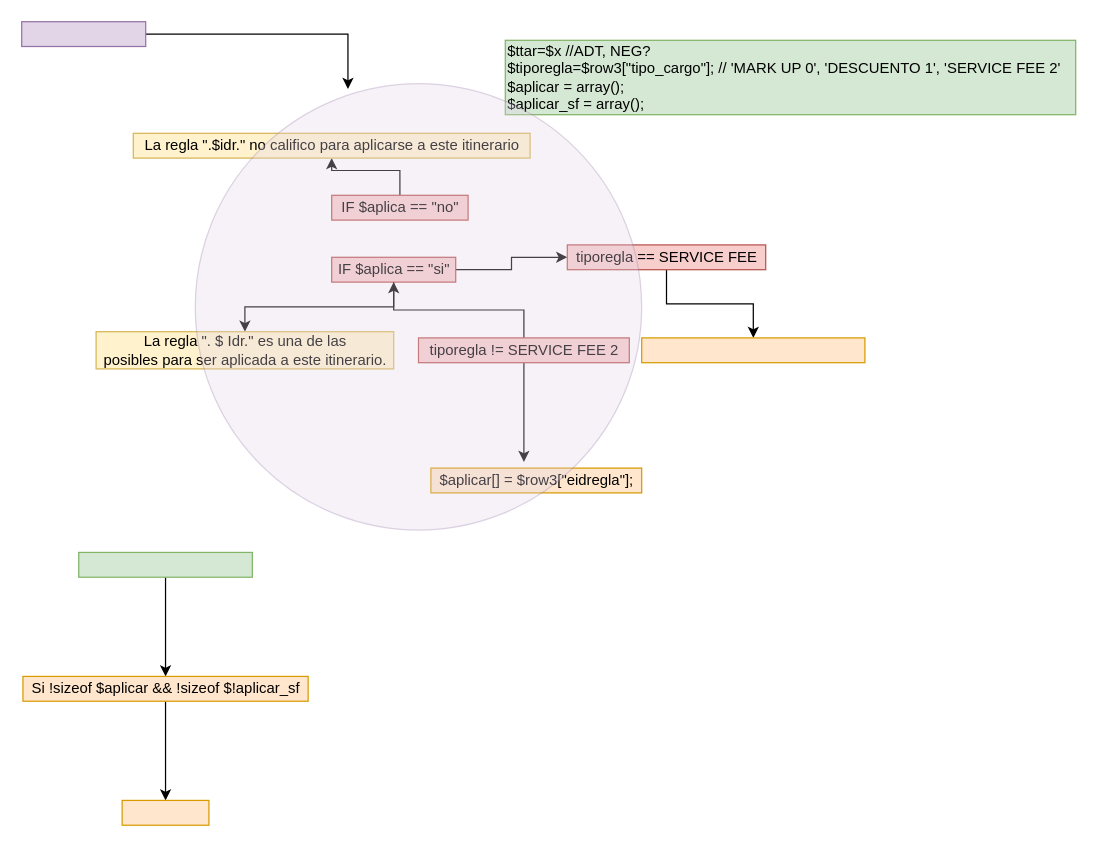
Some shapes in this 1097 by 847 pixel diagram are drawn without their labels. Here are the shapes that lost their labels. From the top down, the box of each, then its label:
(20, 20, 146, 46): Esto es un FOR
(640, 337, 865, 363): $aplicar_sf[] = $row3["eidregla"]
(78, 551, 252, 577): Cuando termina el FOR
(121, 799, 209, 825): $def = "si"
